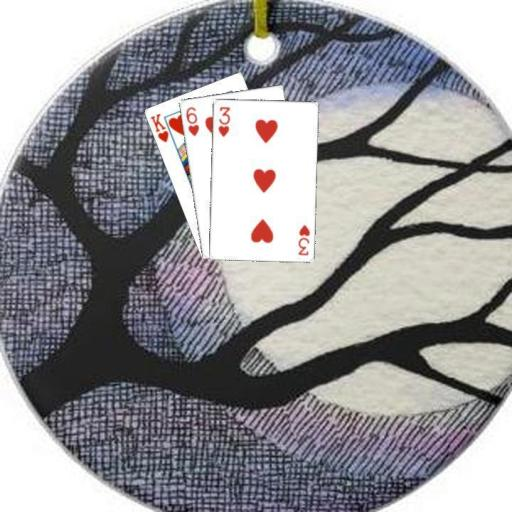card-corner: (146, 110, 170, 144), (182, 103, 201, 137), (294, 221, 311, 256), (215, 103, 231, 138)
